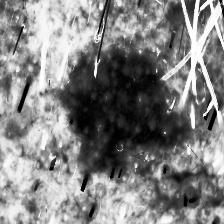Benign Marking or Mole: (62, 50, 182, 174)
